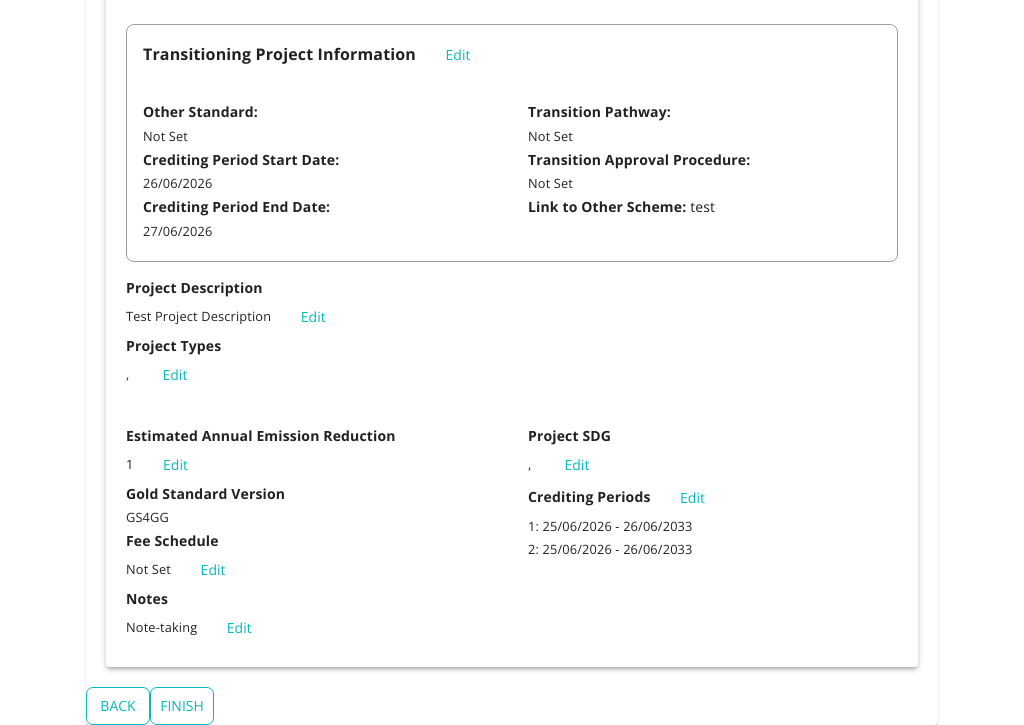
Test case: CreateProject › when edit field is clicked correct step is displayed {"id":"Estimated Annual Emission Reduction","expectedText":"Estimated Annual Emission Reduction/Removal"}
(page scrolled)
Click the button with test id "Estimated Annual Emission Reduction" at (176,465), box [144, 451, 208, 479]
(page scrolled)
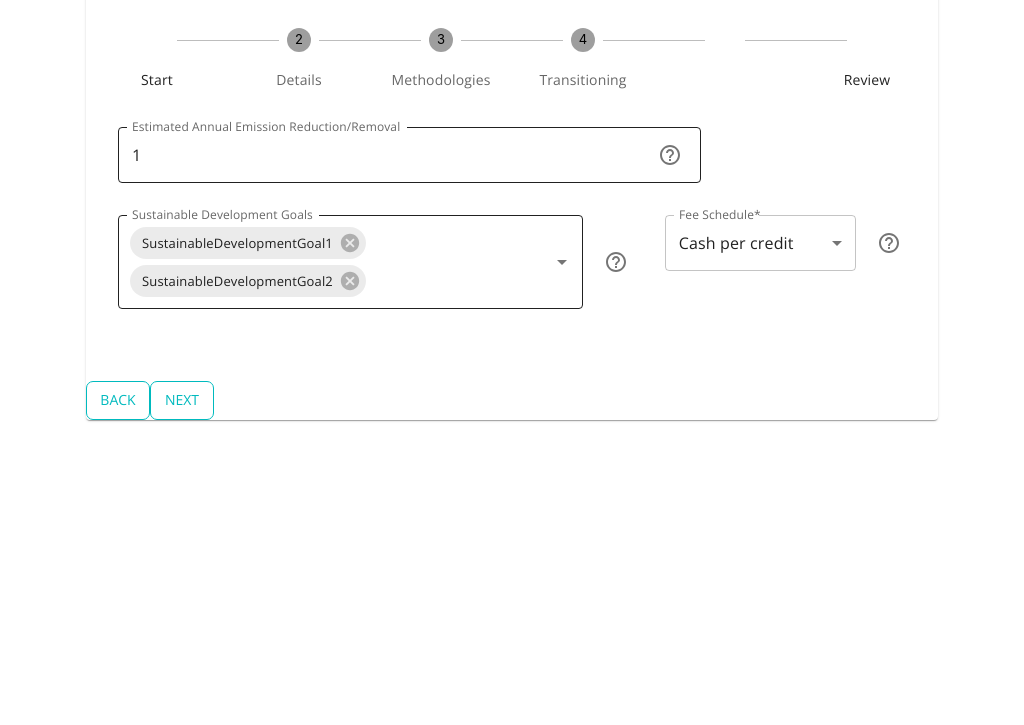
Now the field labelled "Estimated Annual Emission Reduction/Removal" is shown, box [118, 127, 653, 183]
